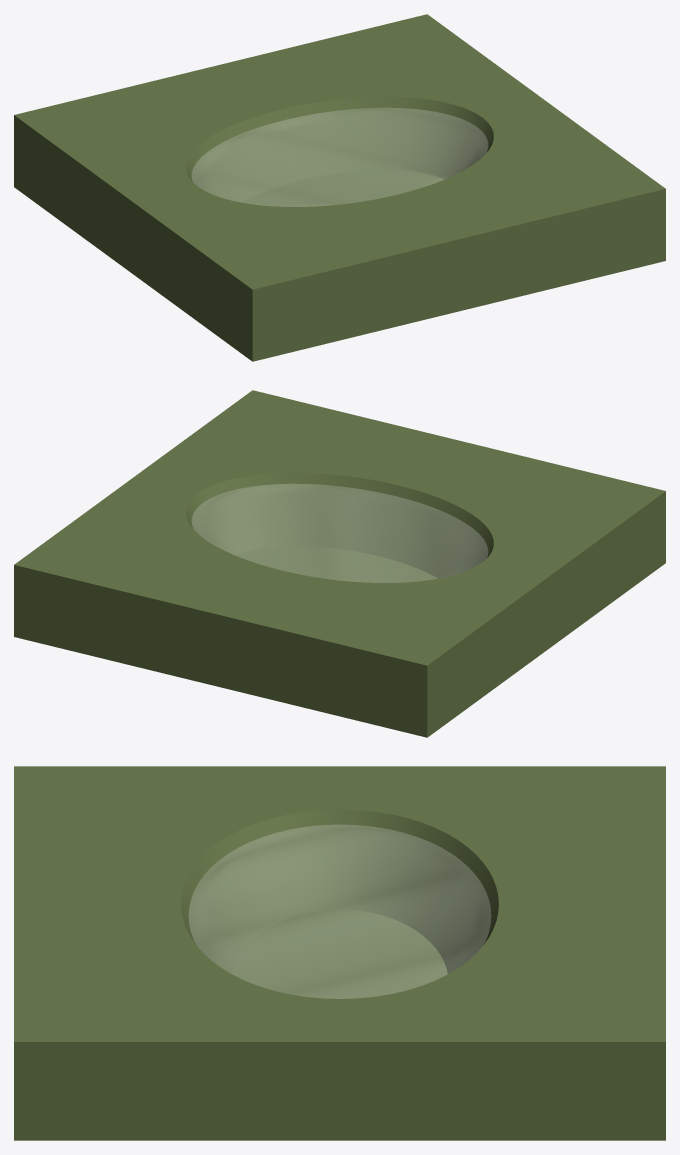
File: start_pond.glb
The picture shows the model from 3 angles, top to bottom: view 1: azimuth 30°, elevation 25°; view 2: azimuth 150°, elevation 25°; view 3: azimuth 270°, elevation 25°; orthographic projection. The views are drawn at different scales.
Parts seen in each view (by area): view 1: lawn, water; view 2: lawn, water; view 3: lawn, water.
Boxes of the visible parts, box(x1,y1,x2,y2) form: lawn: box(14, 14, 665, 361); water: box(192, 108, 487, 206); lawn: box(14, 390, 665, 737); water: box(192, 484, 487, 582); lawn: box(14, 766, 665, 1140); water: box(189, 825, 490, 998).
Size of the model in its own units: 3 by 0.5001 by 3.
